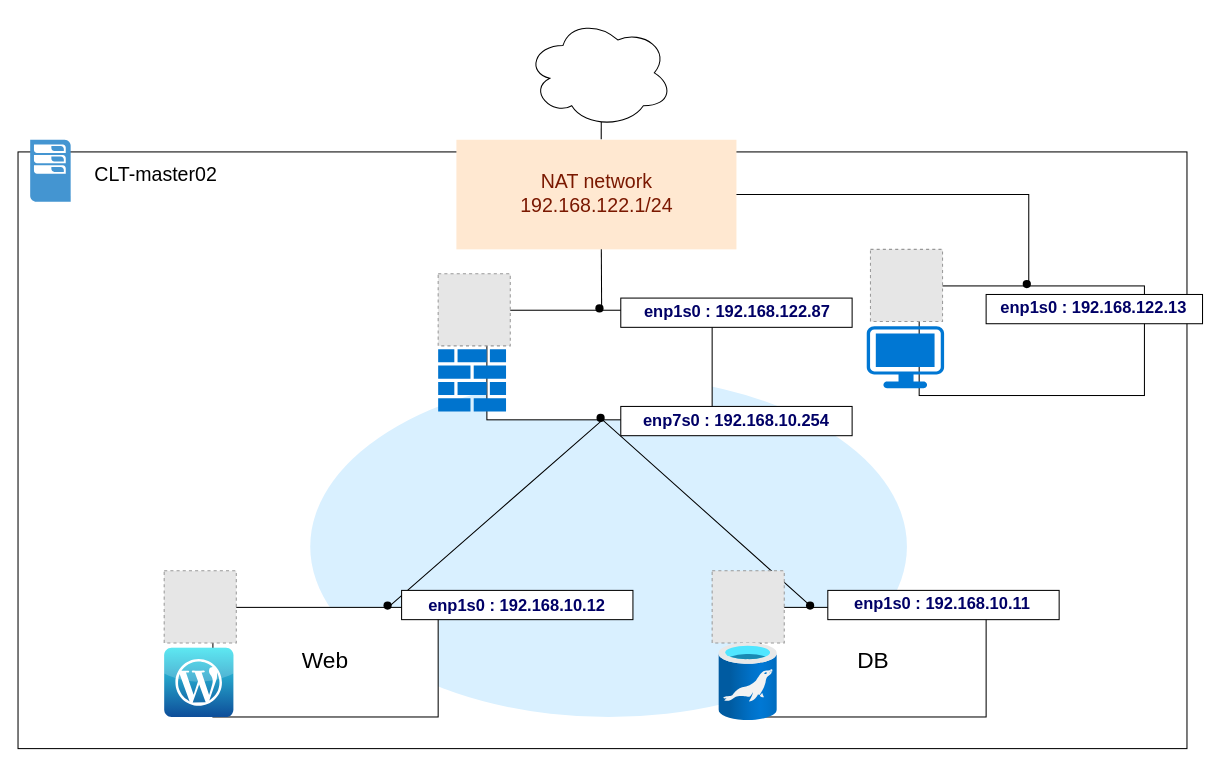
This 1221x767 diagram has some shape labels left out. Grey dashed boxes stand in for pictures. Here are the shapes that lost their labels. From the top down, the box of each, then its label:
(525, 17, 673, 128): Uplink
(918, 285, 1144, 396): viewer-guest
(486, 309, 712, 420): rhel8
(310, 376, 906, 716): Isolated Network 192.168.10.1/24
